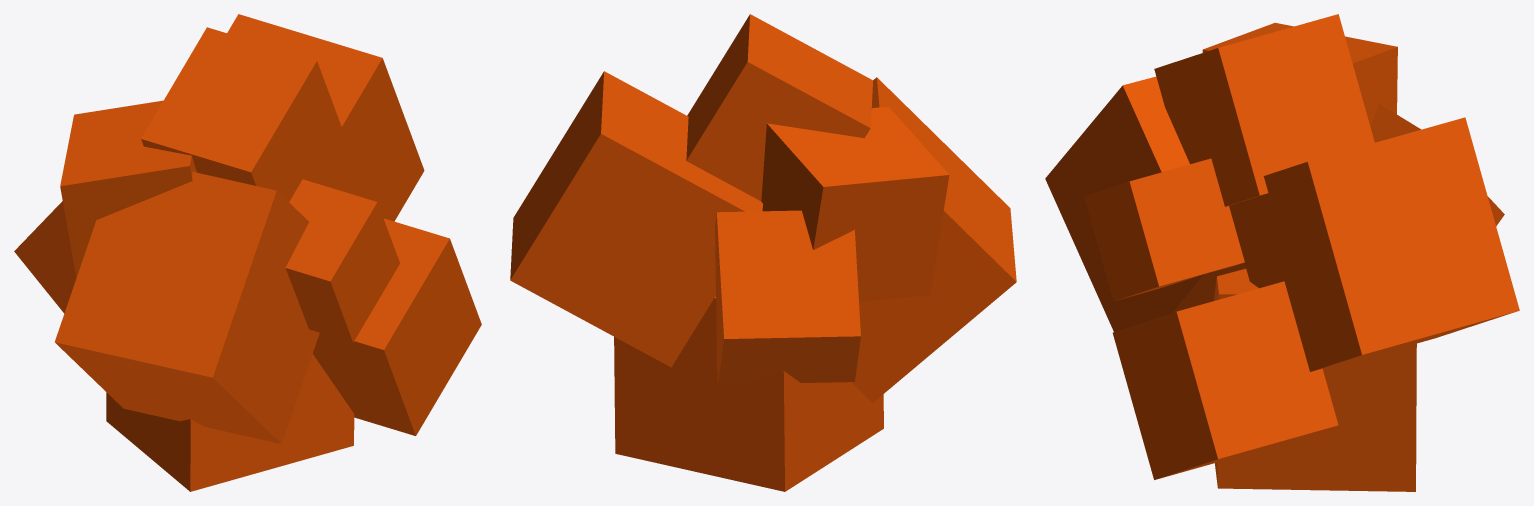
File: tree-autumn-leaves-015.glb
The picture shows the model from 3 angles, left to right: view 1: azimuth 30°, elevation 25°; view 2: azimuth 150°, elevation 25°; view 3: azimuth 270°, elevation 25°; orthographic projection. The views are drawn at different scales.
Visible parts, largest first — view 1: Cube.034_342; view 2: Cube.034_342; view 3: Cube.034_342.
Boxes of the visible parts, <box> form: Cube.034_342: <box>14,14,481,491</box>; Cube.034_342: <box>510,14,1016,491</box>; Cube.034_342: <box>1045,14,1519,491</box>.
Bounding box in the file's own units: 1.31 × 1.13 × 1.14.
